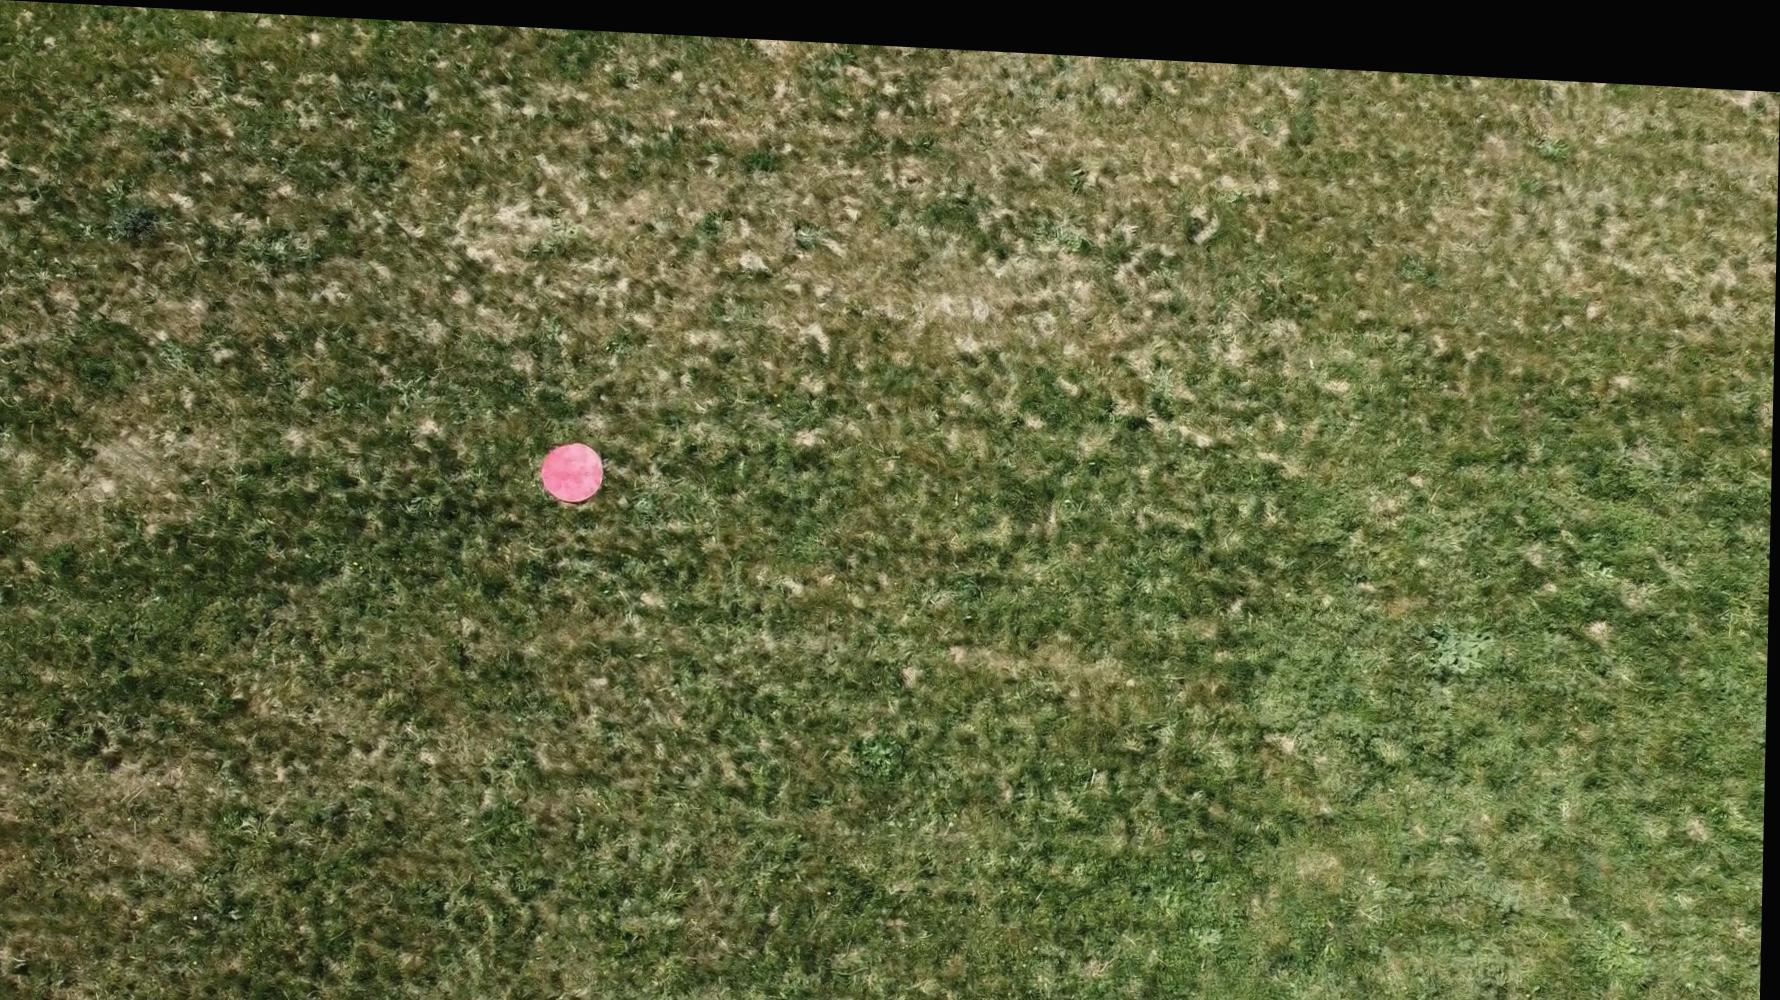Red: (537, 430, 609, 502)
